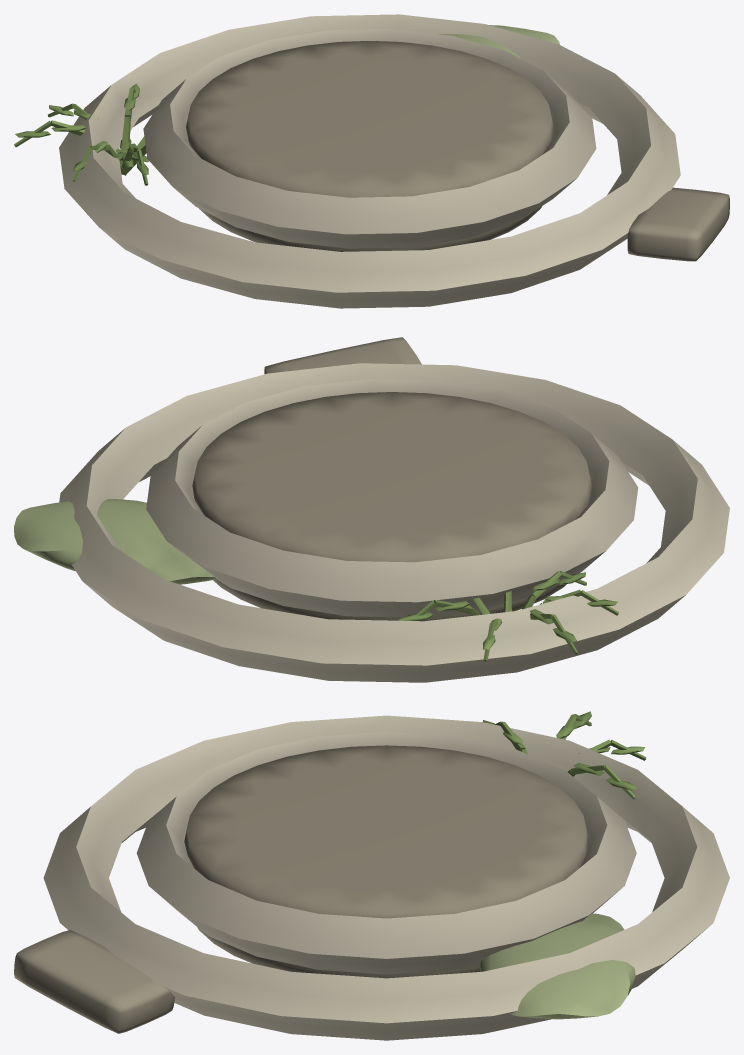
Rendered from mist_rings_b.glb.
3 views of the same model, one above another, from view 1: azimuth 30°, elevation 25°; view 2: azimuth 150°, elevation 25°; view 3: azimuth 270°, elevation 25° (orthographic). The views are drawn at different scales.
Visible parts, largest first — view 1: Surface; view 2: Surface; view 3: Surface.
Part boxes in pixels (x1,y1,x2,y2): Surface: (14,14,729,308); Surface: (14,337,729,682); Surface: (14,711,729,1040).
Bounding box in the file's own units: 4 × 0.54 × 4.17.
